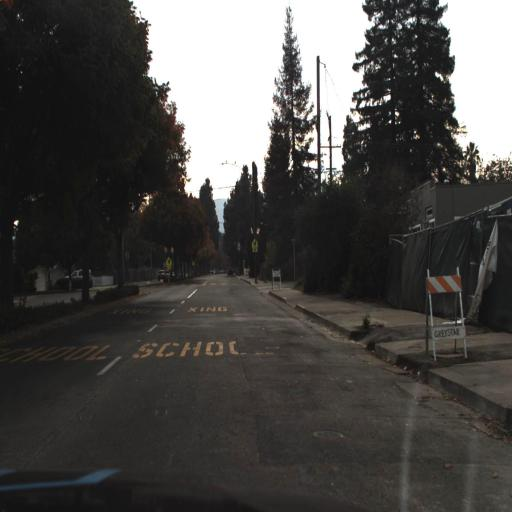car: (60, 265, 95, 288)
